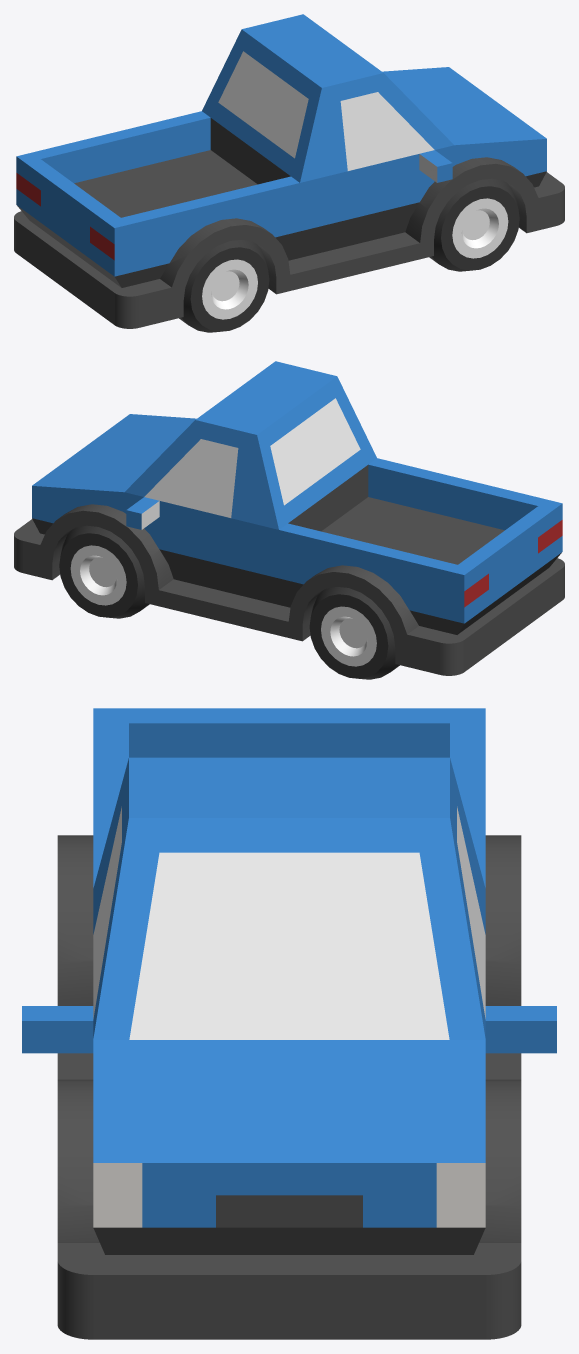
The model's file is 21 Truck.FBX.
3 renders of one model, top to bottom at view 1: azimuth 30°, elevation 25°; view 2: azimuth 150°, elevation 25°; view 3: azimuth 270°, elevation 25°, orthographic. The views are drawn at different scales.
Parts seen in each view (by area): view 1: body, wheel_backRight, wheel_frontRight; view 2: body, wheel_backLeft, wheel_frontLeft; view 3: body.
Part boxes in pixels (x1,y1,x2,y2): body: (14,14,564,328); wheel_backRight: (179,240,269,332); wheel_frontRight: (429,178,519,271); body: (14,361,564,675); wheel_backLeft: (309,587,399,679); wheel_frontLeft: (59,525,149,618); body: (22,708,556,1339).
Bounding box in the file's own units: 725 × 325 × 375.
